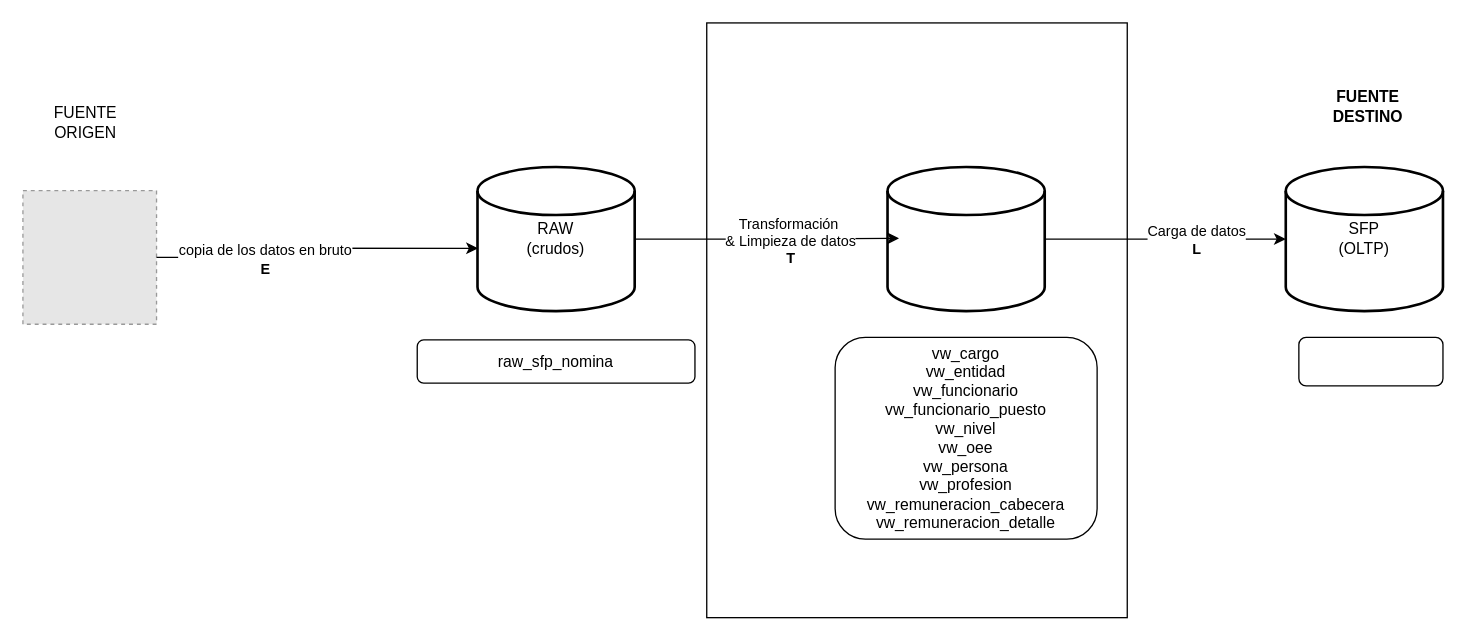
Some shapes in this 1467 by 641 pixel diagram are drawn without their labels. Grey dashed boxes stand in for pictures. Each missing label, with the box of its shape:
implementación de las tablas del DER: (1298, 336, 1443, 386)
STAGE (vistas / sp / fn): (886, 165, 1045, 312)
